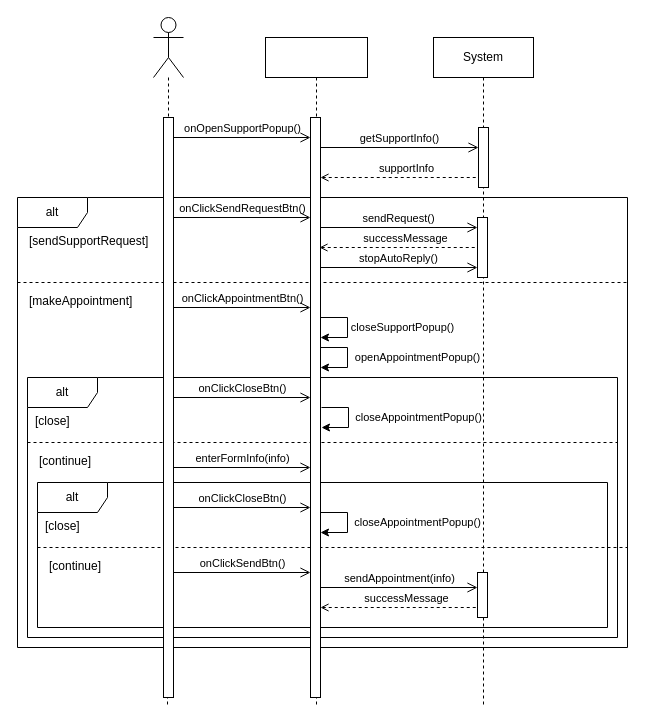
This 645x726 diagram has some shape labels left out. The box of each missing label's shape, as (x1, y1, x2, y2) in pixels:
Business Website: (264, 36, 368, 708)
Customer: (152, 16, 184, 78)
